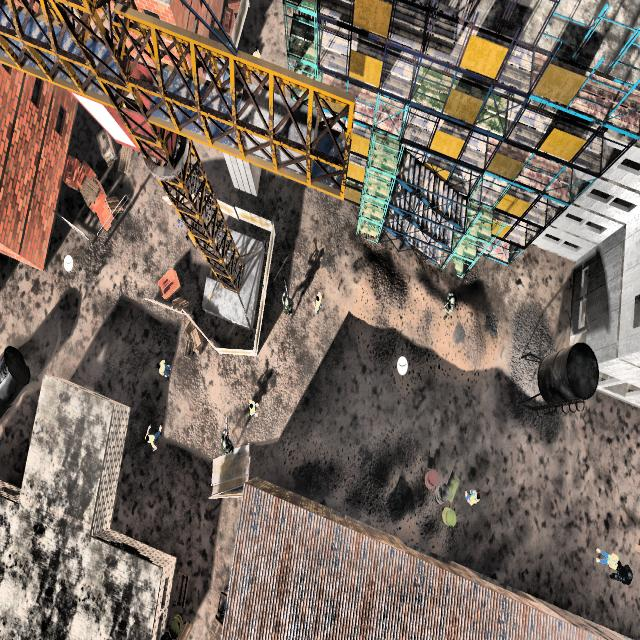bad: (216, 416, 238, 463), (438, 278, 458, 325), (277, 281, 298, 323), (614, 562, 632, 590)
good: (587, 533, 619, 576), (243, 386, 264, 431), (143, 417, 168, 454), (464, 478, 482, 521), (155, 348, 173, 385), (308, 286, 324, 317)
